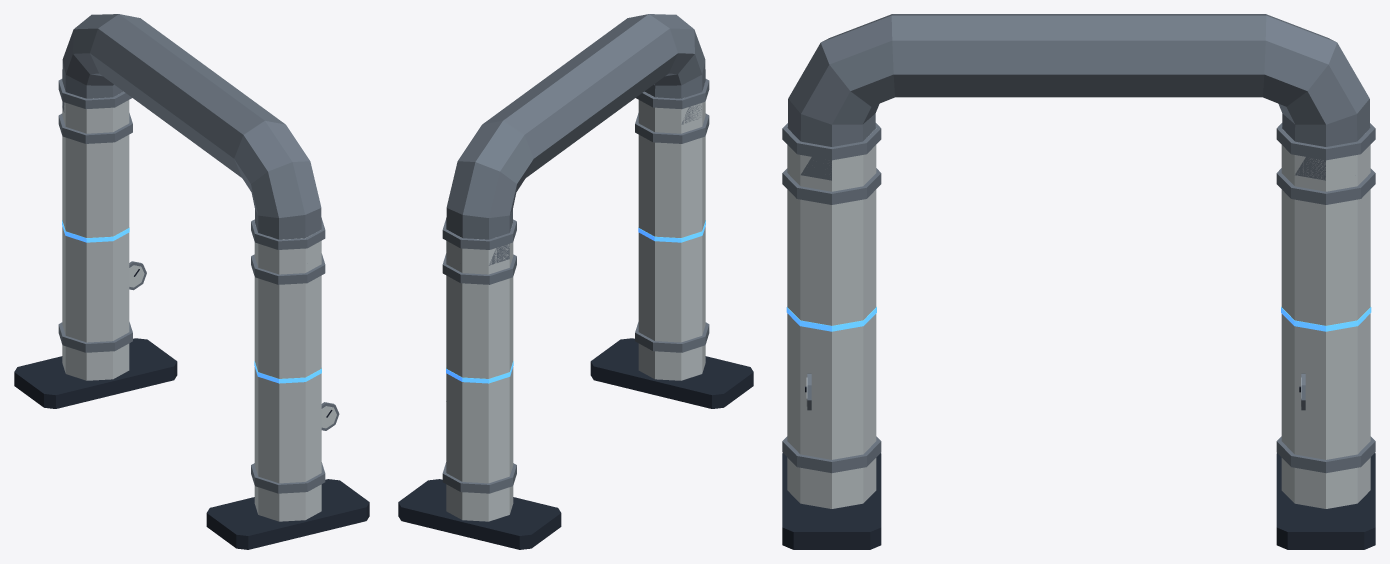
The model's file is fus_coolant_pipe_arch.glb.
3 views of the same model, side by side, from view 1: azimuth 30°, elevation 25°; view 2: azimuth 150°, elevation 25°; view 3: azimuth 270°, elevation 25° (orthographic). The views are drawn at different scales.
Visible parts, largest first — view 1: gauge_dial, clamp, pipe_foot, cryo_band; view 2: gauge_dial, clamp, pipe_foot, cryo_band; view 3: clamp, gauge_dial, pipe_foot, cryo_band.
Part boxes in pixels (x1,y1,x2,y2): gauge_dial: (62, 98, 336, 521); clamp: (58, 14, 339, 493); pipe_foot: (14, 338, 369, 549); cryo_band: (62, 220, 321, 383); gauge_dial: (446, 100, 705, 521); clamp: (442, 14, 709, 493); pipe_foot: (398, 338, 753, 549); cryo_band: (446, 220, 705, 383); clamp: (782, 14, 1375, 473); gauge_dial: (787, 128, 1370, 508); pipe_foot: (782, 453, 1375, 549); cryo_band: (786, 307, 1371, 331).
Size of the model in its own units: 1.6 by 4.4 by 4.8.
